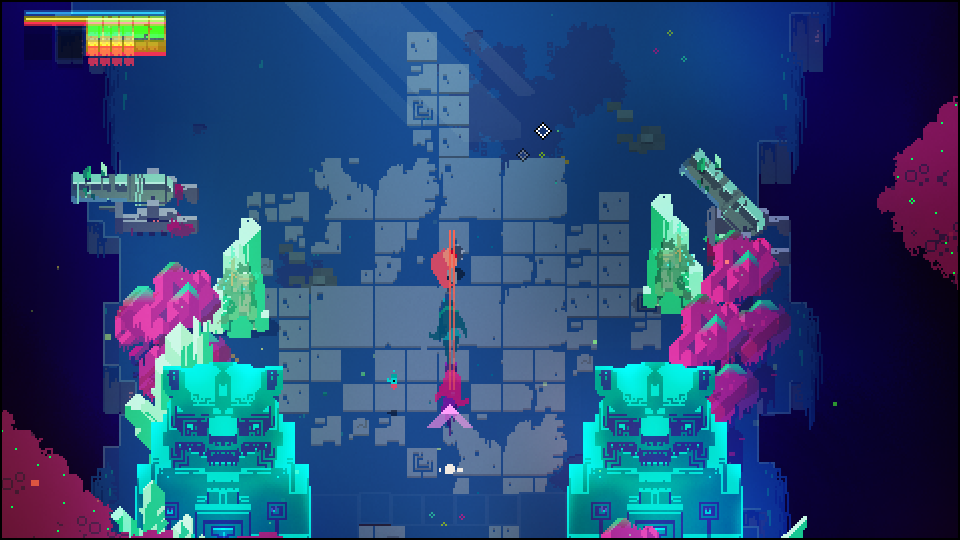player: (427, 243, 468, 298)
